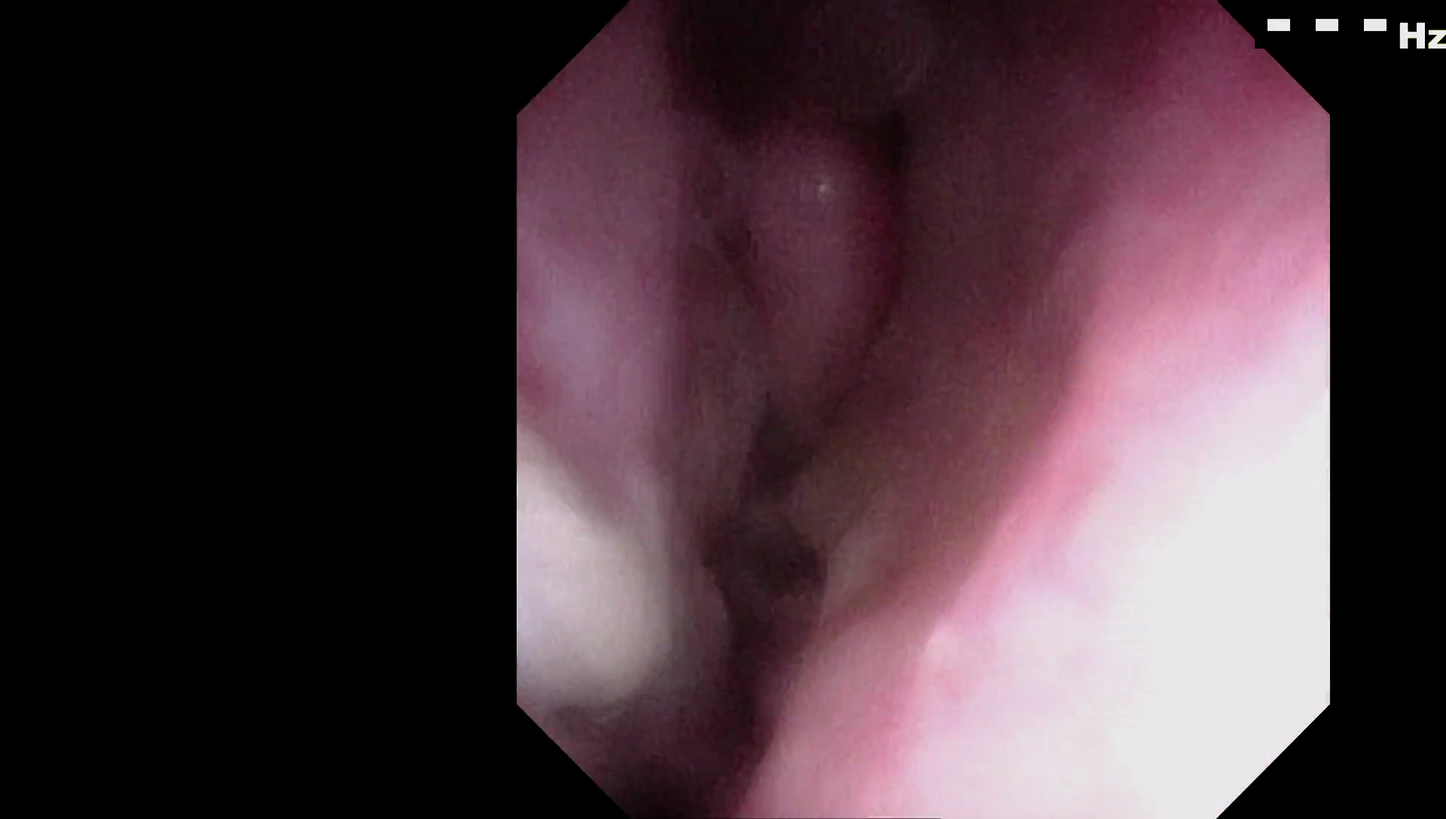close_wall: (909, 376, 1318, 806)
next: (654, 10, 813, 163), (834, 74, 934, 178)
